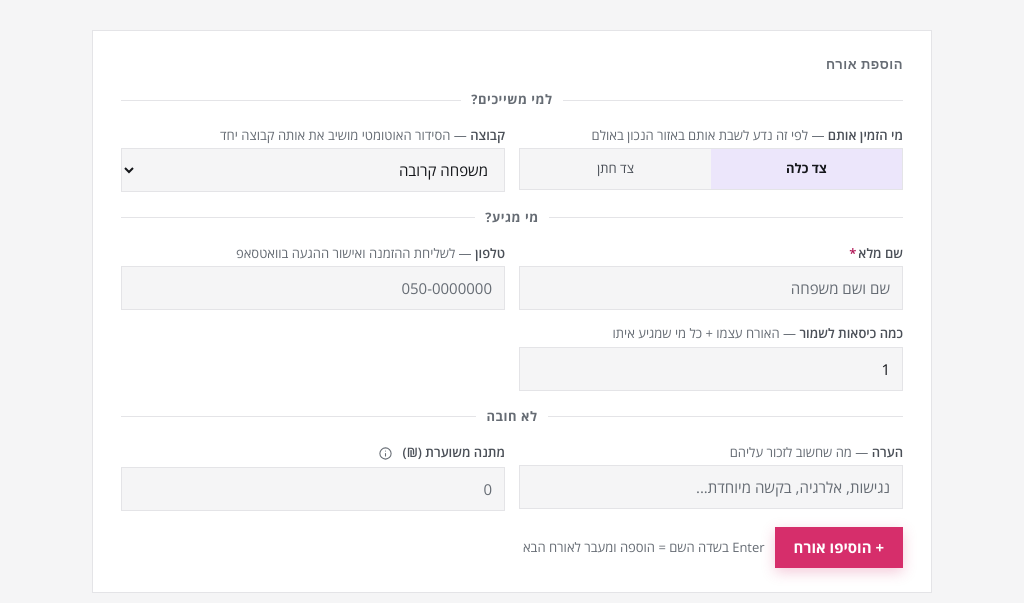
Test: GuestManagerScreen — the seat count shows what will be saved (review 6.10) › 99 shows 50, 0 shows 1
This screenshot has width=1024, height=603.
(page scrolled)
Replace the text in the number field labelled "כמה כיסאות לשמור — האורח עצמו + כל מי שמגיע איתו" with "99". click: [711, 369]
box: [519,346,903,391]
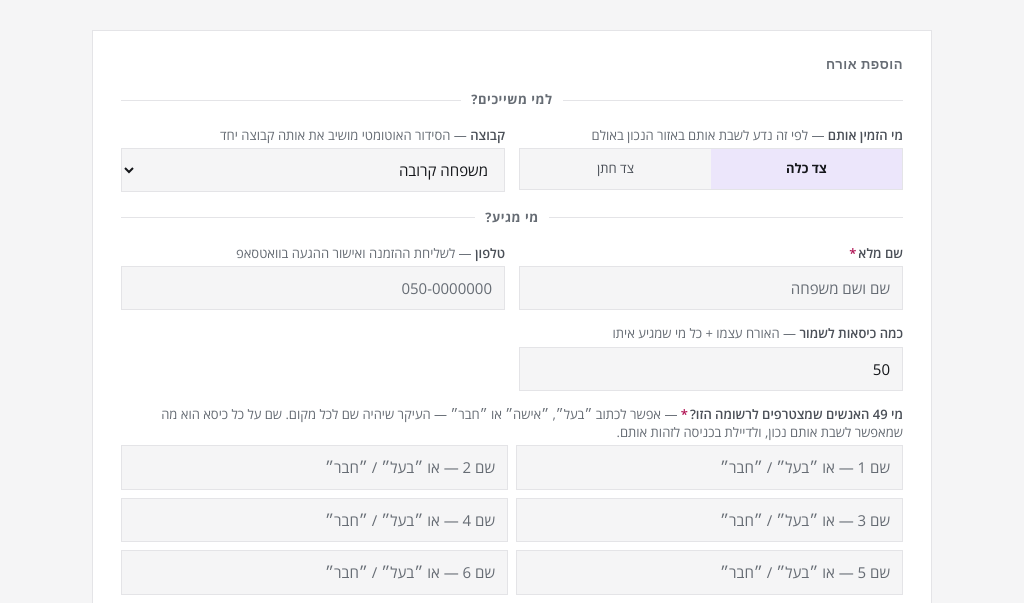
Expected: the number field labelled "כמה כיסאות לשמור — האורח עצמו + כל מי שמגיע איתו" holds "50"
Replace the text in the number field labelled "כמה כיסאות לשמור — האורח עצמו + כל מי שמגיע איתו" with "0". click: [711, 369]
box: [519,346,903,391]
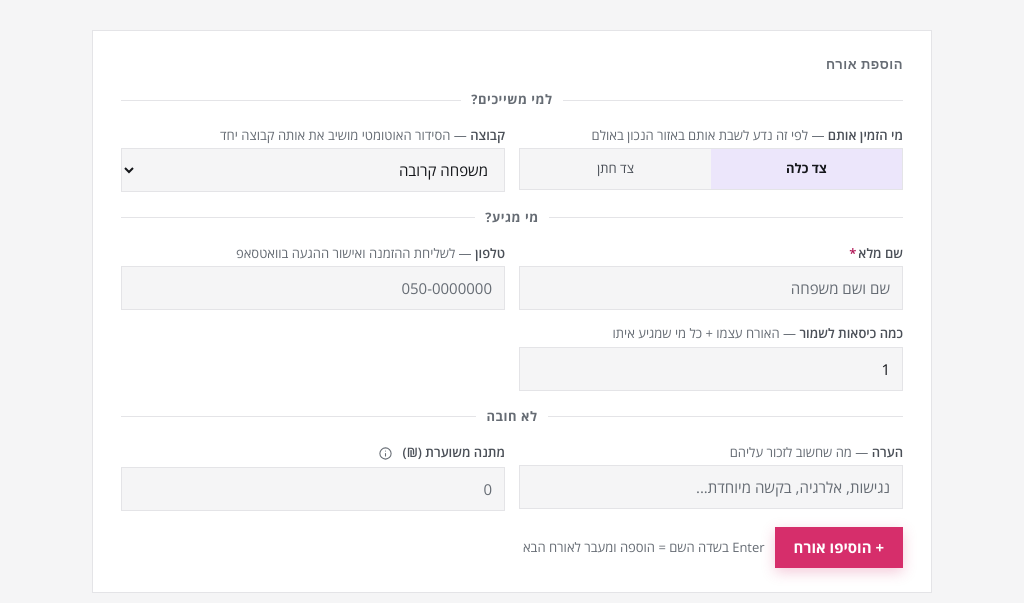
Expected: the number field labelled "כמה כיסאות לשמור — האורח עצמו + כל מי שמגיע איתו" holds "1", [519,346,903,391]
